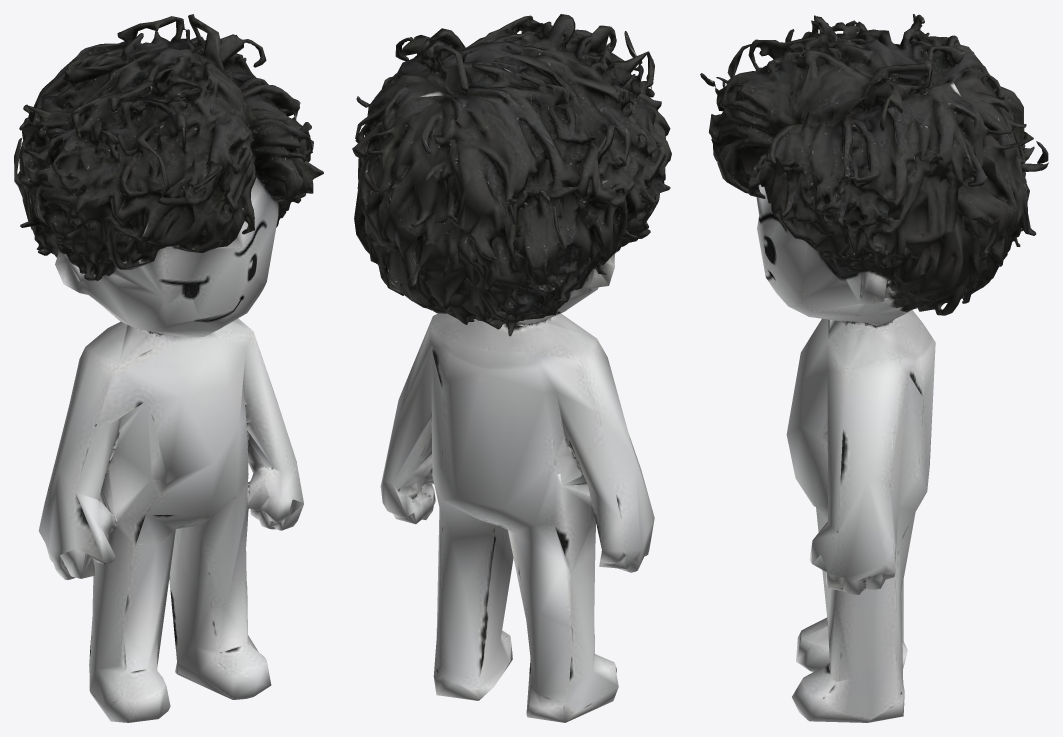
The model's file is boyChar_smirk.glb.
3 renders of one model, left to right at view 1: azimuth 30°, elevation 25°; view 2: azimuth 150°, elevation 25°; view 3: azimuth 270°, elevation 25°, orthographic. The views are drawn at different scales.
Parts seen in each view (by area): view 1: Char_Boy_Smirk; view 2: Char_Boy_Smirk; view 3: Char_Boy_Smirk.
Boxes of the visible parts, bbox=[...] form: Char_Boy_Smirk: bbox=[14, 14, 323, 722]; Char_Boy_Smirk: bbox=[352, 14, 671, 722]; Char_Boy_Smirk: bbox=[700, 14, 1048, 722].
Bounding box in the file's own units: 0.5156 × 1.19 × 0.5715.
1 material, 1 textured.
